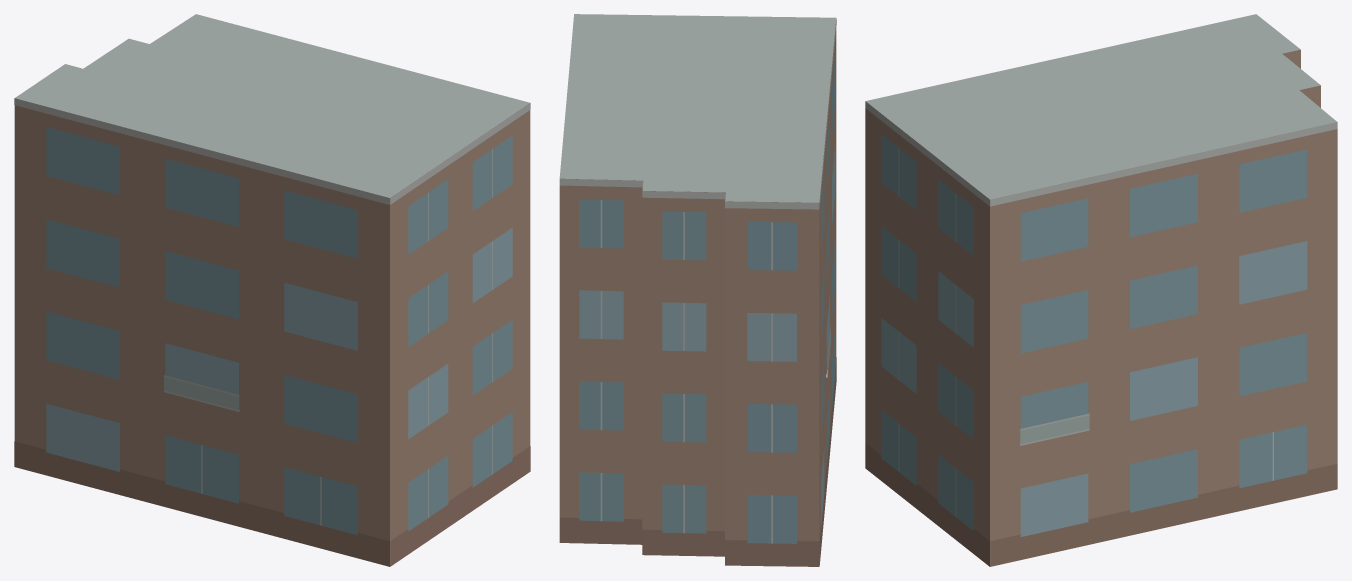
The model's file is survey-upis-32577231.glb.
The picture shows the model from 3 angles, left to right: view 1: azimuth 30°, elevation 25°; view 2: azimuth 150°, elevation 25°; view 3: azimuth 270°, elevation 25°; orthographic projection.
Parts seen in each view (by area): view 1: survey-upis-32577231.tmp; view 2: survey-upis-32577231.tmp; view 3: survey-upis-32577231.tmp.
Part boxes in pixels (<box>): survey-upis-32577231.tmp: <box>14,14,530,566</box>; survey-upis-32577231.tmp: <box>559,14,836,566</box>; survey-upis-32577231.tmp: <box>865,14,1337,566</box>.
Size of the model in its own units: 14.11 by 13 by 15.16.
